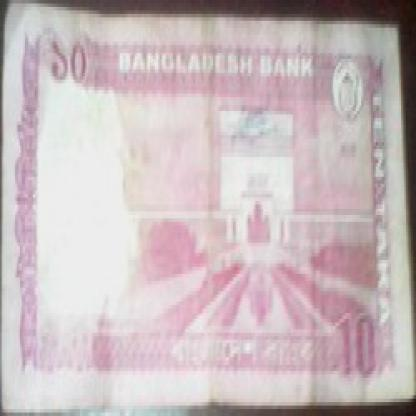Ten Taka: (40, 21, 105, 111), (340, 291, 384, 378), (116, 125, 155, 166)
